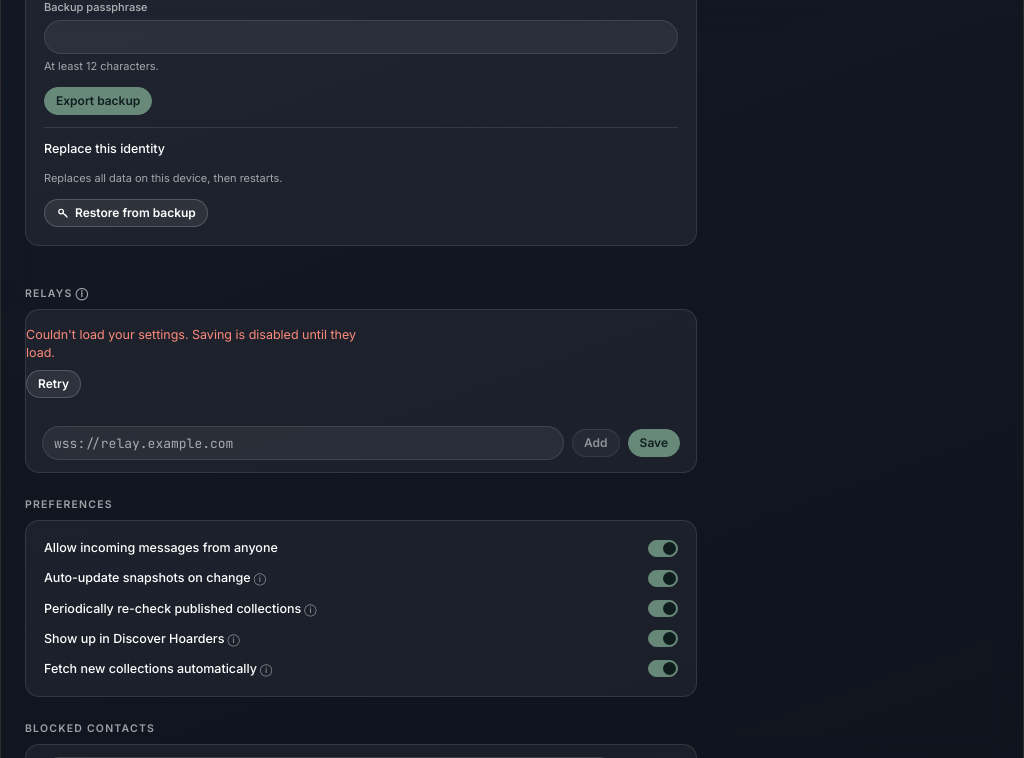
it: QURATOR-93 — Settings load failure disables Save and offers Retry › Retry: reject → resolve → Save ENABLES and the error is gone
(page scrolled)
expect the button "Save" is disabled: met, box [628,429,680,457]
Click the button "Retry" at (54,384), box [26,370,81,398]
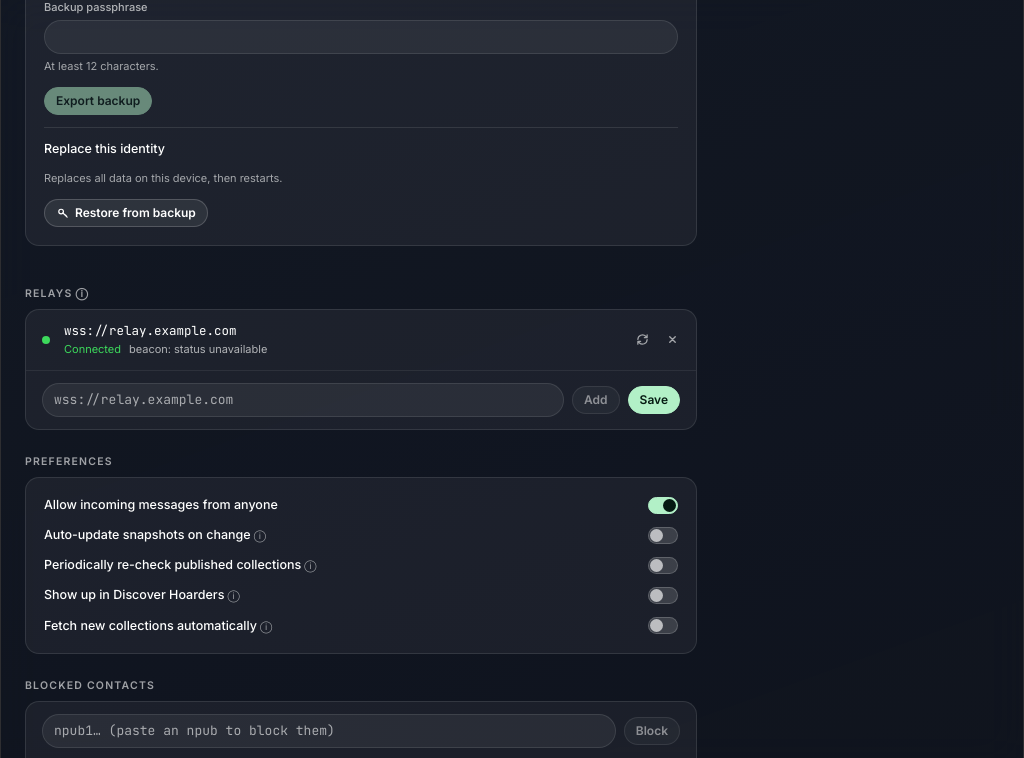
expect the text "wss://relay.example.com" is shown: met, box [64,322,236,339]
expect the button "Save" is enabled: met, box [628,386,680,414]
expect the message "Couldn't load your settings. Saving is disabled until they load. Retry" is gone: met
